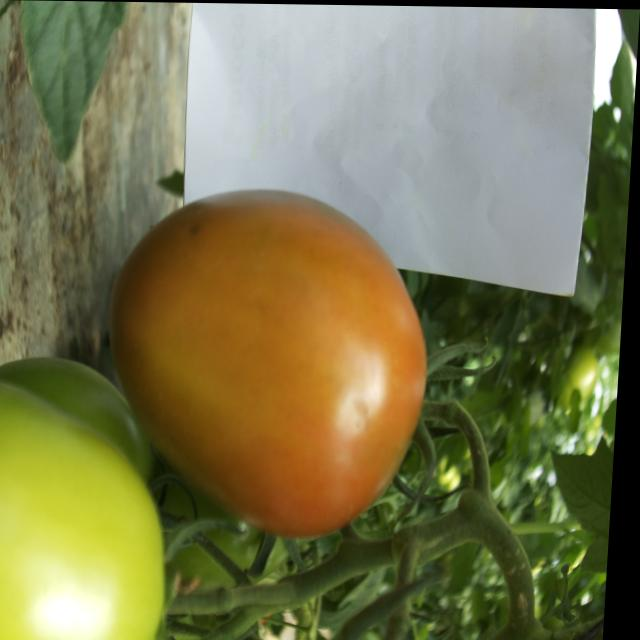sari: (104, 172, 492, 524)
